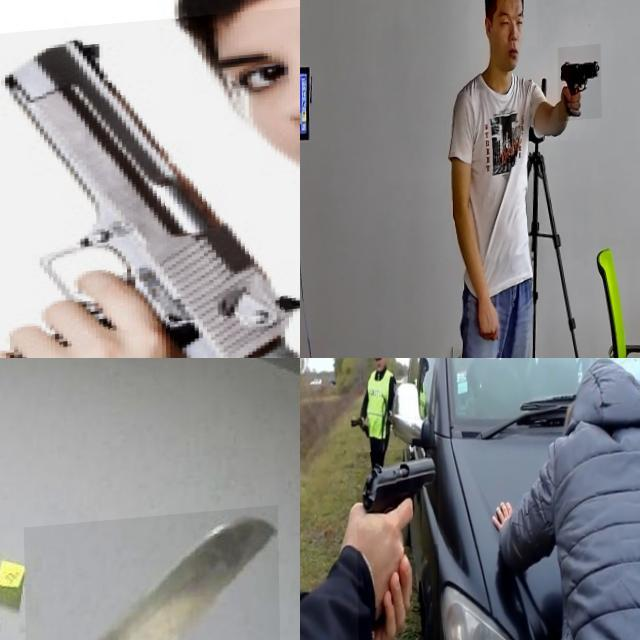-: (22, 514, 279, 640)
gun-knife-thesis - v11 Yolov5 augmented: (0, 13, 300, 358), (354, 453, 438, 640), (557, 51, 601, 128)
